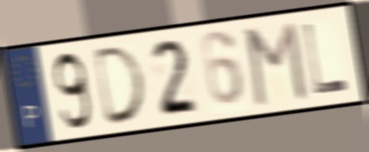2: (149, 37, 198, 119)
6: (201, 27, 247, 116)
9: (50, 49, 94, 132)
D: (92, 42, 150, 129)
L: (300, 20, 351, 98)
M: (244, 18, 310, 109)
